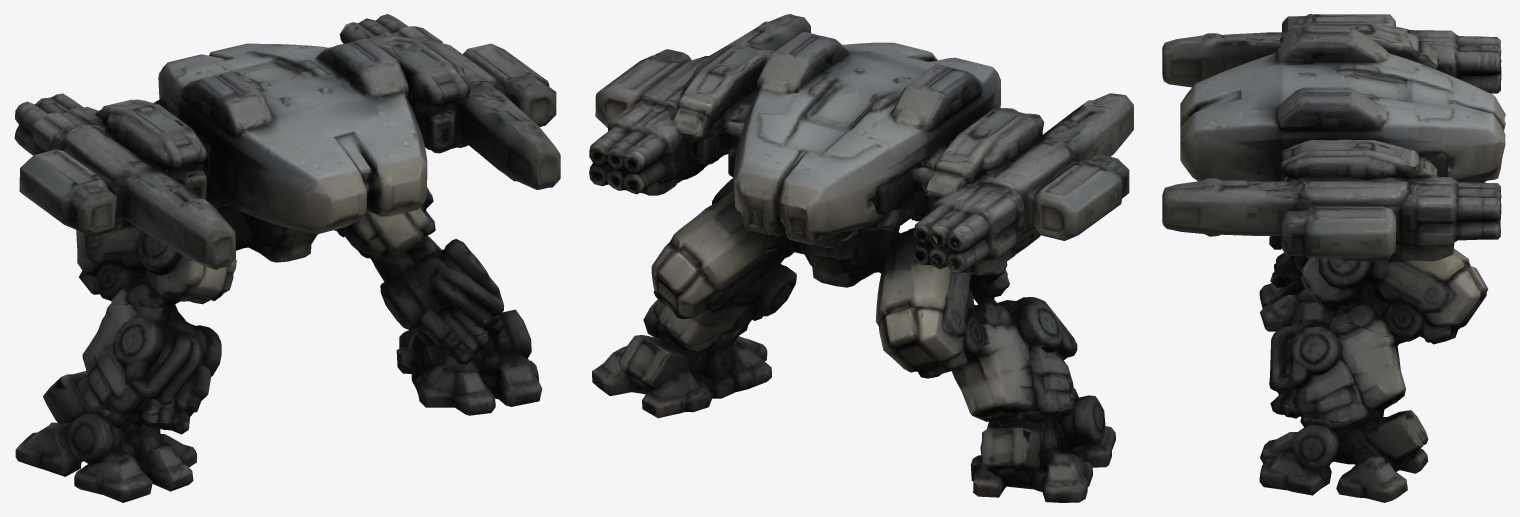
Rendered from hero_h2.glb.
3 views of the same model, side by side, from view 1: azimuth 30°, elevation 25°; view 2: azimuth 150°, elevation 25°; view 3: azimuth 270°, elevation 25° (orthographic). The views are drawn at different scales.
Visible parts, largest first — view 1: hull, weapon_l, weapon_r, foot_l, shin_l, foot_r, shin_r, thigh_l, thigh_r, pelvis; view 2: hull, weapon_l, weapon_r, thigh_l, foot_l, foot_r, shin_l, thigh_r, shin_r, pelvis; view 3: hull, weapon_r, thigh_r, foot_r, shin_r, weapon_l, foot_l, shin_l.
Boxes of the visible parts, bbox=[...] form: hull: bbox=[116, 36, 453, 233]; weapon_l: bbox=[14, 93, 235, 269]; weapon_r: bbox=[339, 14, 560, 189]; foot_l: bbox=[15, 371, 196, 502]; shin_l: bbox=[77, 299, 221, 414]; foot_r: bbox=[396, 309, 542, 415]; shin_r: bbox=[359, 235, 504, 349]; thigh_l: bbox=[76, 204, 236, 308]; thigh_r: bbox=[334, 187, 435, 259]; pelvis: bbox=[218, 208, 317, 262]; hull: bbox=[678, 31, 1007, 247]; weapon_l: bbox=[913, 93, 1133, 275]; weapon_r: bbox=[589, 14, 810, 195]; thigh_l: bbox=[876, 216, 1009, 378]; foot_l: bbox=[970, 388, 1115, 502]; foot_r: bbox=[592, 299, 771, 418]; shin_l: bbox=[931, 297, 1077, 417]; thigh_r: bbox=[651, 178, 794, 319]; shin_r: bbox=[652, 254, 796, 347]; pelvis: bbox=[764, 218, 913, 287]; hull: bbox=[1180, 27, 1505, 182]; weapon_r: bbox=[1162, 140, 1501, 262]; thigh_r: bbox=[1301, 248, 1487, 342]; foot_r: bbox=[1259, 393, 1428, 502]; shin_r: bbox=[1269, 302, 1446, 422]; weapon_l: bbox=[1162, 14, 1501, 93]; foot_l: bbox=[1259, 272, 1357, 331]; shin_l: bbox=[1269, 236, 1308, 277].
Size of the model in its own units: 6.21 by 4.33 by 4.07.
Materials: 1 (1 with a texture image).
